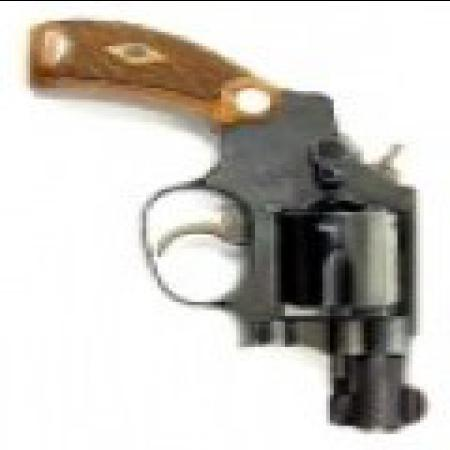Pistol: (30, 14, 439, 424)
